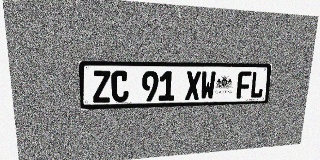1: (159, 71, 175, 101)
9: (142, 71, 159, 101)
C: (111, 71, 129, 102)
F: (236, 71, 252, 99)
L: (250, 71, 265, 98)
W: (200, 71, 216, 100)
X: (185, 71, 201, 100)
Z: (92, 71, 111, 103)
